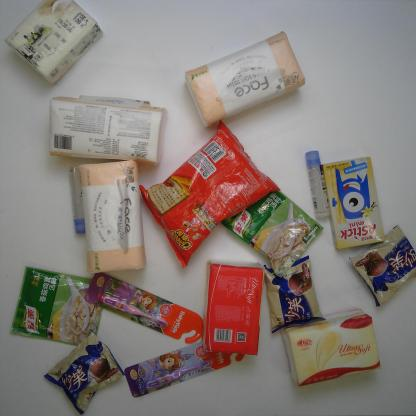Dessert: (31, 323, 129, 410), (320, 151, 391, 255), (342, 226, 416, 307), (256, 255, 331, 328)
Personal Hygiene: (76, 265, 205, 346), (124, 326, 258, 400)
Puffed Food: (138, 118, 273, 269)
Seasoner: (5, 252, 108, 352), (216, 182, 326, 274)
Stationery: (301, 144, 334, 226), (64, 166, 92, 239)
Tissue: (179, 25, 318, 133), (63, 152, 150, 280), (41, 83, 176, 165), (278, 309, 395, 388), (2, 2, 114, 84), (196, 248, 269, 366)
